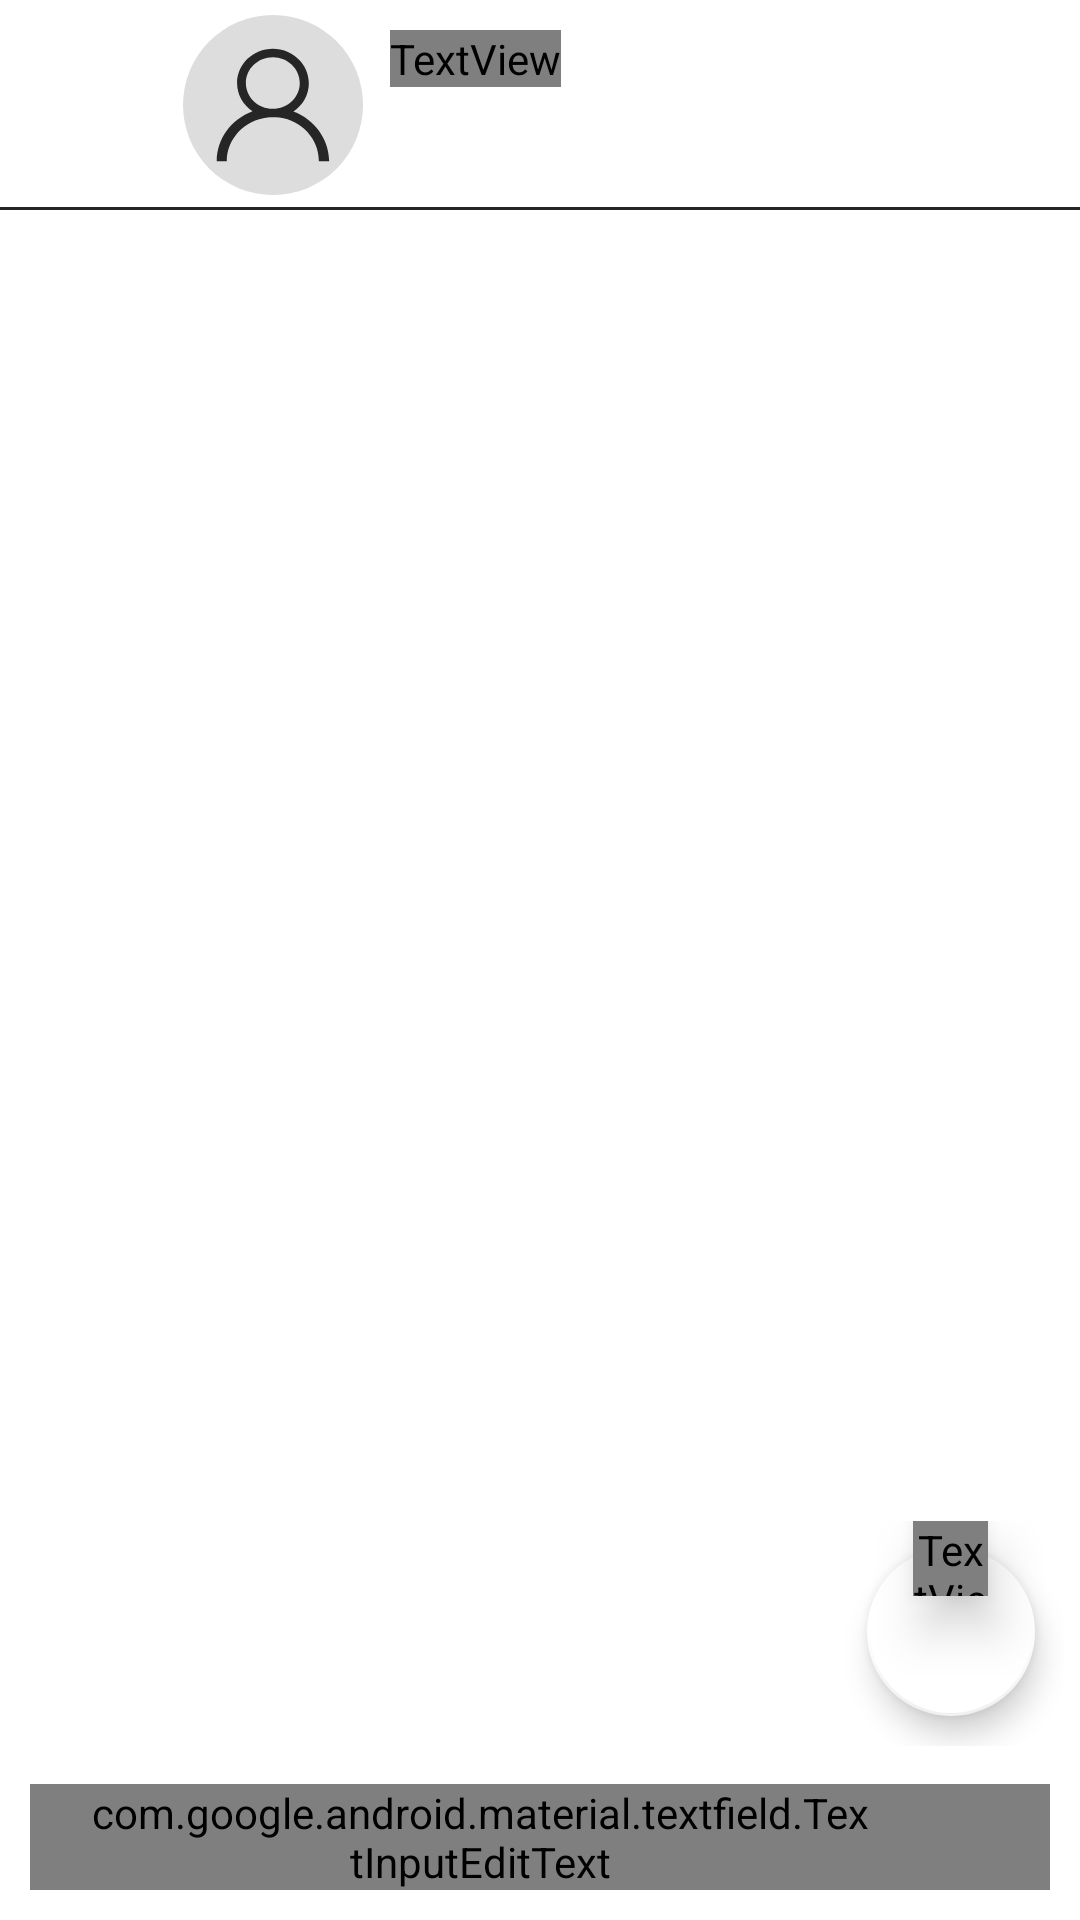

Where to tap for icons on this 1080x1920 app screen, as (x=x, y=y):
user: (x=273, y=105)
